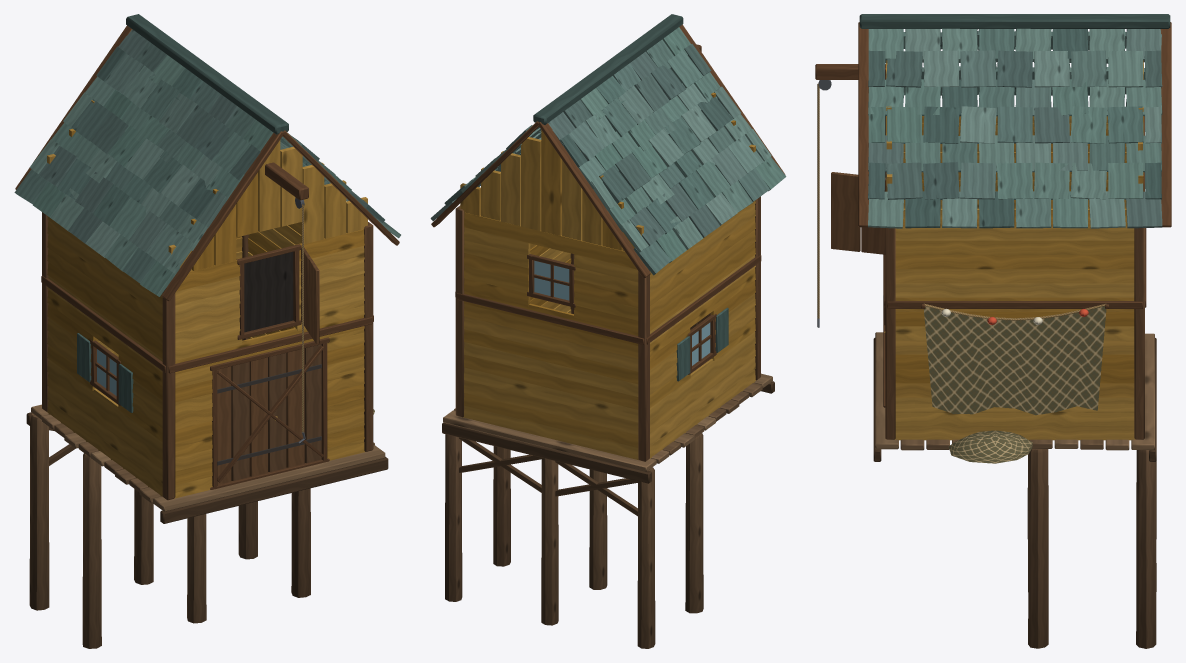
File: ship-house-c.glb
3 views of the same model, side by side, from view 1: azimuth 30°, elevation 25°; view 2: azimuth 150°, elevation 25°; view 3: azimuth 270°, elevation 25° (orthographic). The views are drawn at different scales.
Parts seen in each view (by area): view 1: ship-house-c; view 2: ship-house-c; view 3: ship-house-c.
Part boxes in pixels (x1=…): ship-house-c: x1=14, y1=14, x2=400, y2=648; ship-house-c: x1=430, y1=14, x2=786, y2=648; ship-house-c: x1=815, y1=14, x2=1171, y2=648.
Bounding box in the file's own units: 4.94 × 9.68 × 5.44.
Materials: 6 (3 with a texture image).
